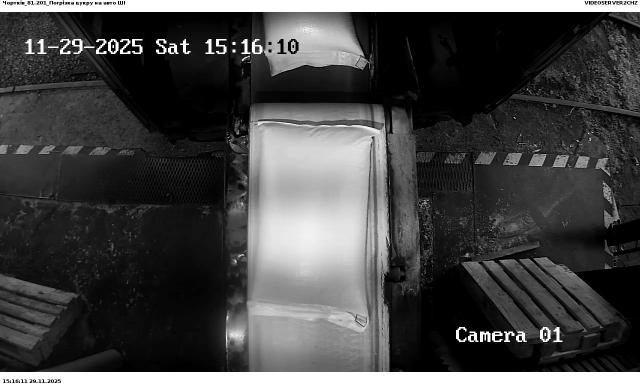bag: (252, 122, 381, 333), (264, 12, 368, 75)
